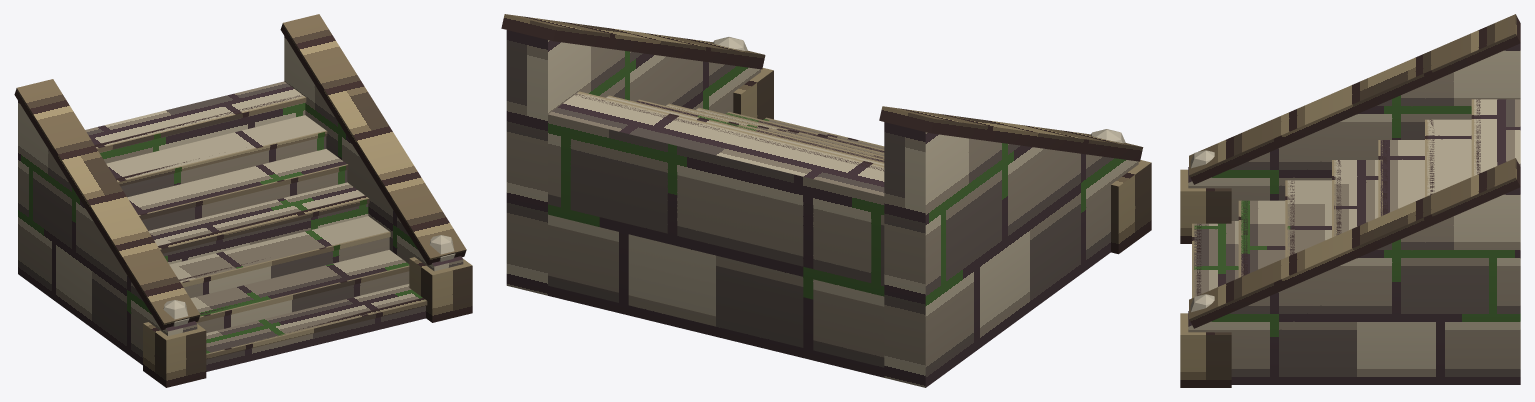
Rendered from scene_stair_hall_terrace.glb.
The picture shows the model from 3 angles, left to right: view 1: azimuth 30°, elevation 25°; view 2: azimuth 150°, elevation 25°; view 3: azimuth 270°, elevation 25°; orthographic projection. The views are drawn at different scales.
Parts seen in each view (by area): view 1: scene_stair_hall_terrace; view 2: scene_stair_hall_terrace; view 3: scene_stair_hall_terrace.
Part boxes in pixels (bbox=[...]): scene_stair_hall_terrace: bbox=[14, 14, 472, 387]; scene_stair_hall_terrace: bbox=[501, 14, 1151, 387]; scene_stair_hall_terrace: bbox=[1180, 14, 1520, 387].
Size of the model in its own units: 3.36 by 1.98 by 2.92.
Materials: 2 (1 with a texture image).
